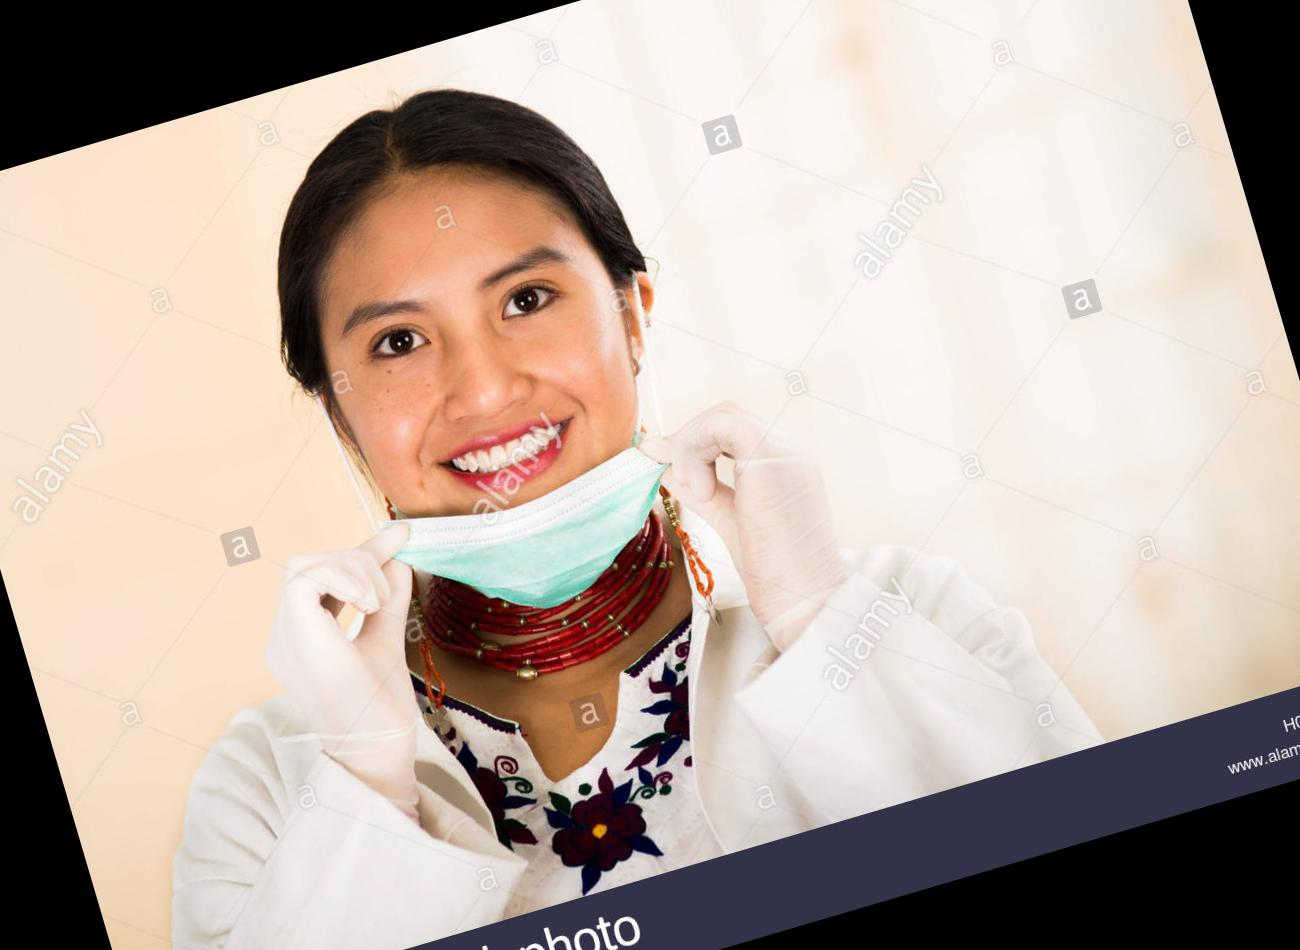mask_weared_incorrect: (324, 225, 674, 606)
